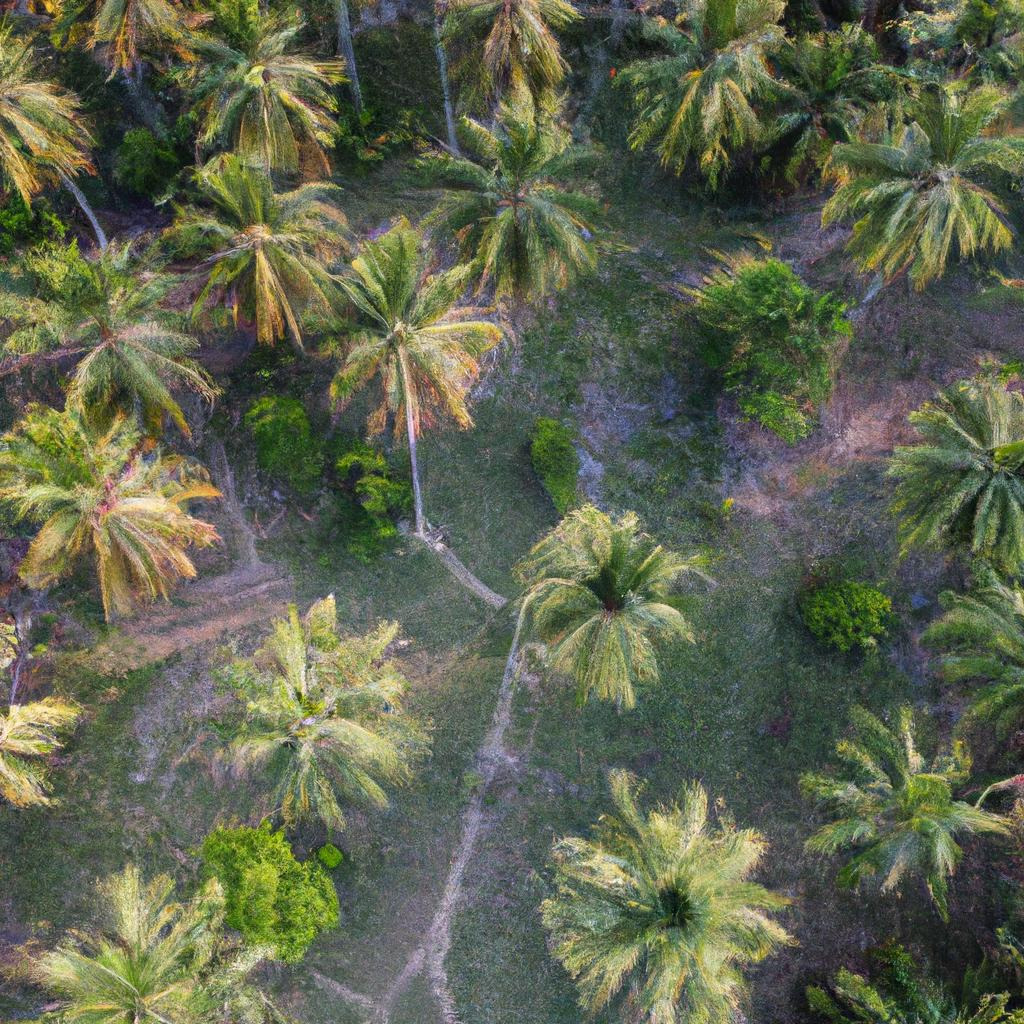coconut_tree: (524, 750, 814, 1023), (188, 581, 442, 840), (389, 85, 632, 312), (801, 677, 1014, 927), (0, 372, 214, 605), (808, 80, 1023, 307), (311, 220, 516, 453), (509, 493, 705, 732), (11, 229, 225, 442), (159, 153, 359, 356), (173, 20, 360, 181)
